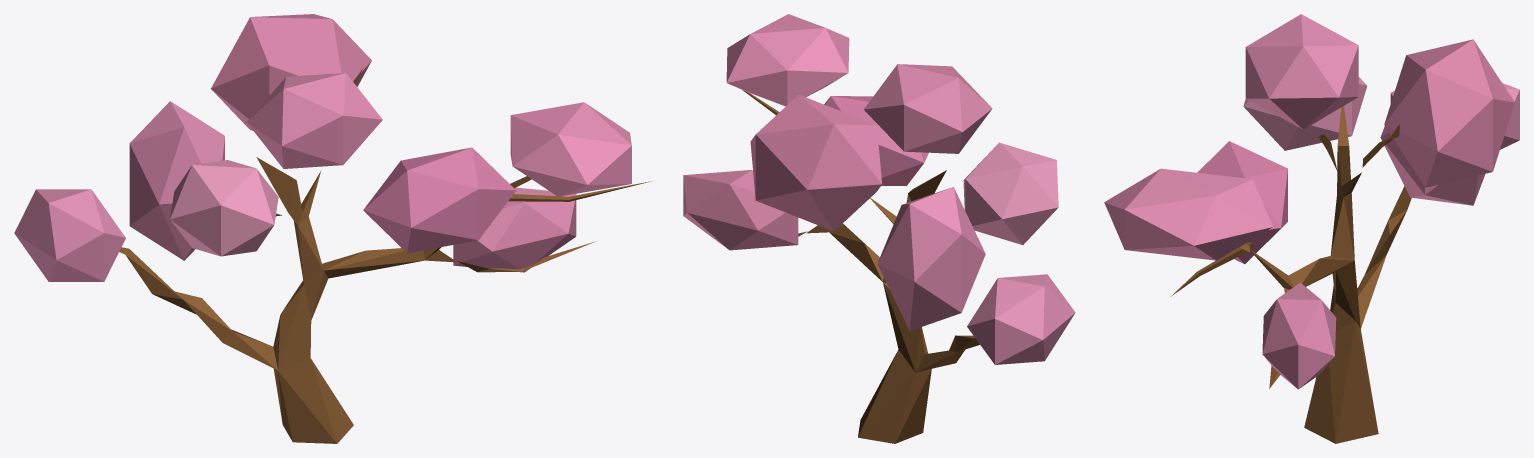
The model's file is cherry_2_bloom_far.glb.
3 views of the same model, side by side, from view 1: azimuth 30°, elevation 25°; view 2: azimuth 150°, elevation 25°; view 3: azimuth 270°, elevation 25° (orthographic). The views are drawn at different scales.
Visible parts, largest first — view 1: cherry_2_bloom_far; view 2: cherry_2_bloom_far; view 3: cherry_2_bloom_far.
Part boxes in pixels (<box>): cherry_2_bloom_far: <box>14,14,652,443</box>; cherry_2_bloom_far: <box>683,14,1075,443</box>; cherry_2_bloom_far: <box>1104,14,1519,443</box>.
Size of the model in its own units: 9.15 by 6.63 by 6.47.
